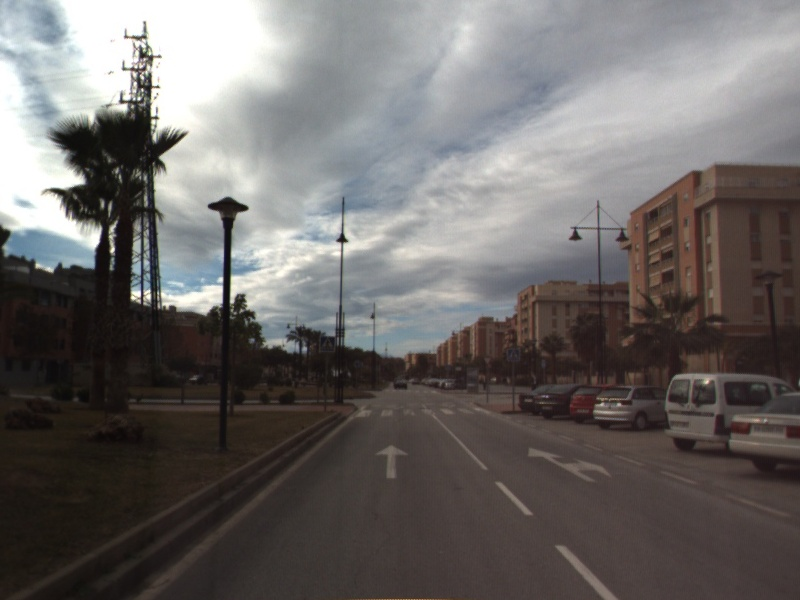STRAIGHT: (373, 442, 410, 480)
STRAIGHT_RIGHT: (526, 446, 614, 484)
